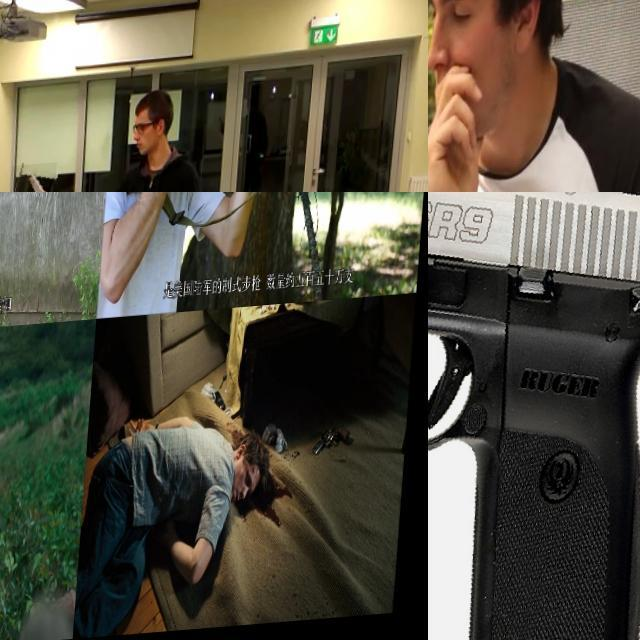gun-knife-thesis - v11 Yolov5 augmented: (428, 192, 640, 640), (117, 192, 386, 248), (0, 192, 53, 244), (316, 426, 358, 468), (12, 165, 61, 192), (0, 450, 16, 525)
